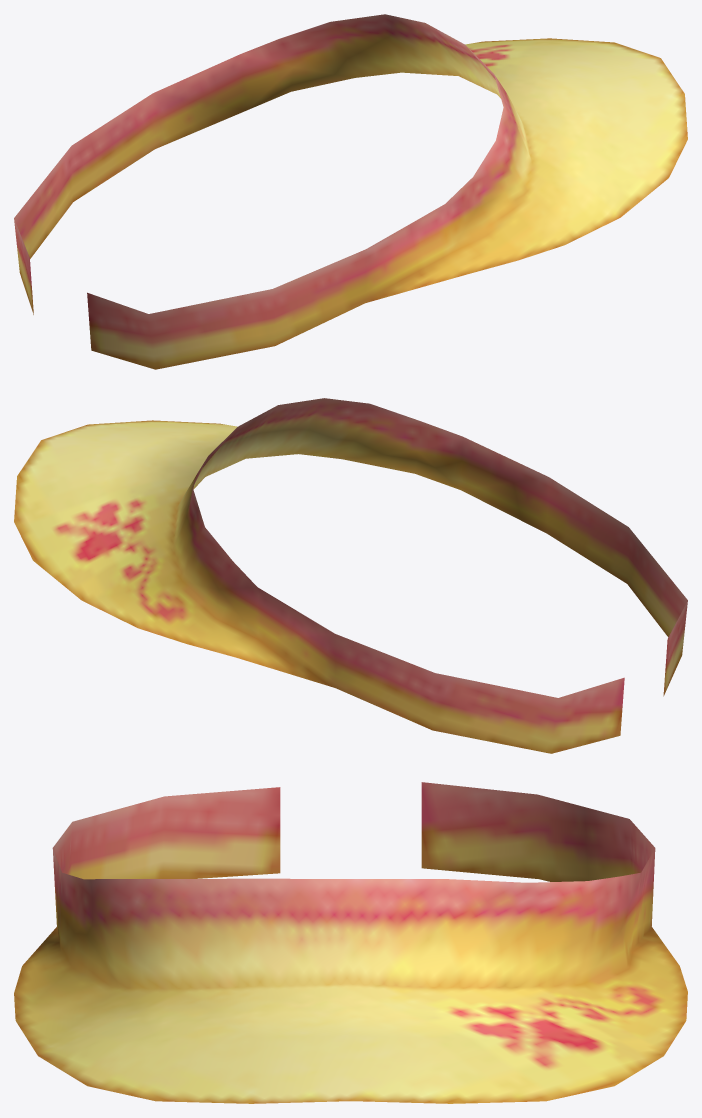
Rendered from hat_0450059.FBX.
3 renders of one model, top to bottom at view 1: azimuth 30°, elevation 25°; view 2: azimuth 150°, elevation 25°; view 3: azimuth 270°, elevation 25°, orthographic. The views are drawn at different scales.
Parts seen in each view (by area): view 1: hat_0450059; view 2: hat_0450059; view 3: hat_0450059.
Boxes of the visible parts, x1,y1,x2,y2 form: hat_0450059: (14,14,687,369); hat_0450059: (14,398,687,753); hat_0450059: (14,782,687,1103).
Size of the model in its own units: 34.4 by 10.33 by 23.43.
